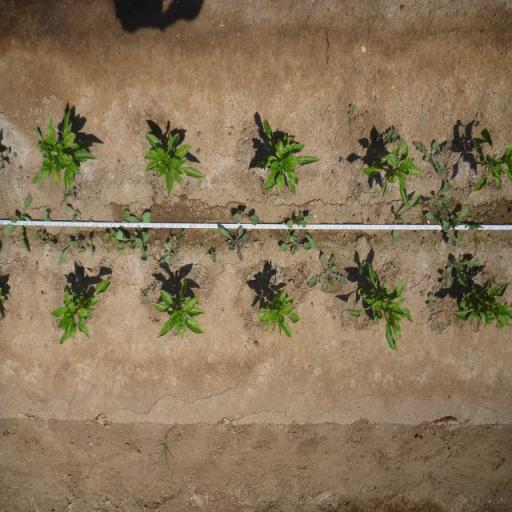plant: (344, 260, 413, 354), (32, 106, 101, 189), (256, 117, 320, 197), (140, 129, 205, 199), (46, 278, 112, 344), (448, 274, 512, 337), (150, 277, 206, 343), (358, 144, 420, 196), (469, 127, 512, 195), (255, 286, 301, 340)
weed: (3, 191, 33, 254), (306, 252, 348, 294), (391, 194, 423, 243), (157, 426, 180, 484), (414, 140, 453, 174), (280, 222, 316, 256), (424, 210, 456, 248), (444, 202, 482, 234), (218, 226, 251, 262), (115, 228, 149, 262), (57, 226, 82, 267), (453, 256, 483, 287), (129, 208, 152, 242), (428, 181, 450, 211), (233, 204, 260, 227), (138, 276, 160, 302), (32, 210, 51, 240), (286, 211, 314, 228), (159, 242, 175, 270), (383, 126, 403, 146), (440, 264, 456, 288), (171, 230, 187, 253), (78, 238, 95, 258), (65, 204, 82, 223), (0, 146, 11, 172), (60, 188, 77, 204), (40, 236, 58, 250), (426, 292, 439, 311), (103, 228, 116, 244), (373, 128, 383, 143), (121, 208, 131, 222), (348, 102, 357, 116), (358, 260, 366, 275), (209, 250, 218, 263), (476, 120, 484, 128), (34, 262, 40, 272), (151, 174, 158, 182), (338, 157, 345, 164), (11, 150, 17, 158), (366, 218, 372, 224), (230, 125, 235, 132), (39, 290, 43, 298), (196, 148, 201, 154), (197, 132, 202, 138), (117, 158, 121, 164), (18, 166, 22, 171), (228, 132, 232, 136), (262, 193, 266, 197)
